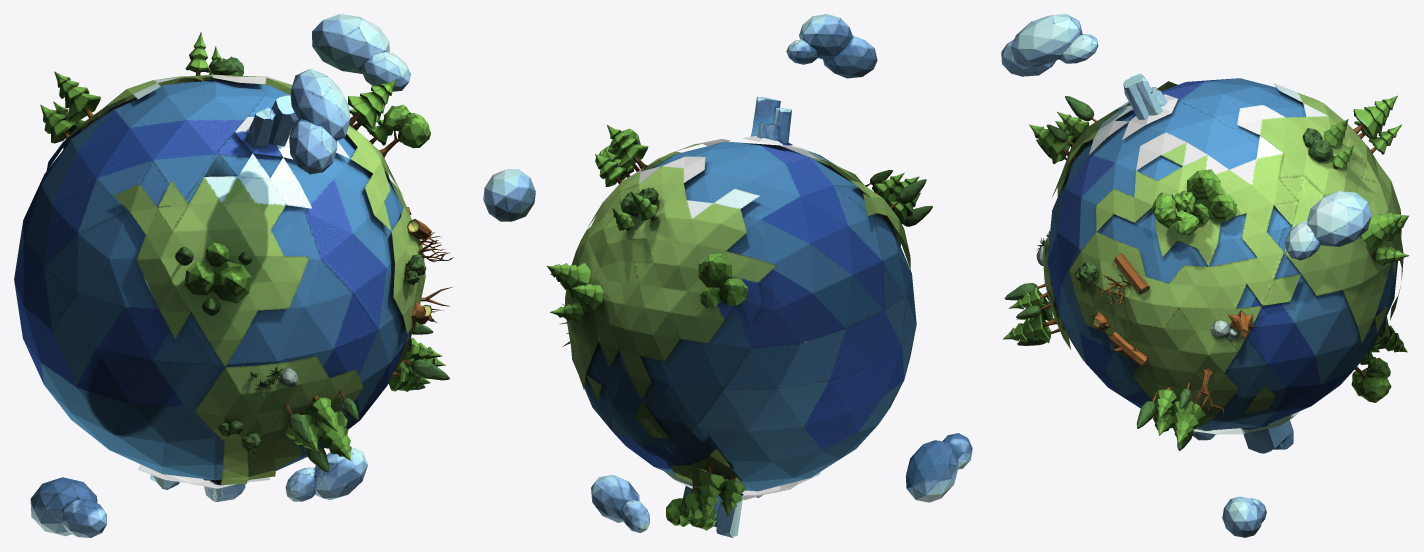
File: tierra.obj
The picture shows the model from 3 angles, left to right: view 1: azimuth 30°, elevation 25°; view 2: azimuth 150°, elevation 25°; view 3: azimuth 270°, elevation 25°; orthographic projection. The views are drawn at different scales.
Visible parts, largest first — view 1: Tree_Spruce_small_02.003; view 2: Tree_Spruce_small_02.003; view 3: Tree_Spruce_small_02.003.
Part boxes in pixels (x1,y1,x2,y2): Tree_Spruce_small_02.003: (14, 14, 453, 537); Tree_Spruce_small_02.003: (483, 14, 972, 537); Tree_Spruce_small_02.003: (1001, 14, 1409, 537).
Bounding box in the file's own units: 2.57 × 2.93 × 2.32.
Materials: 1 (1 with a texture image).
